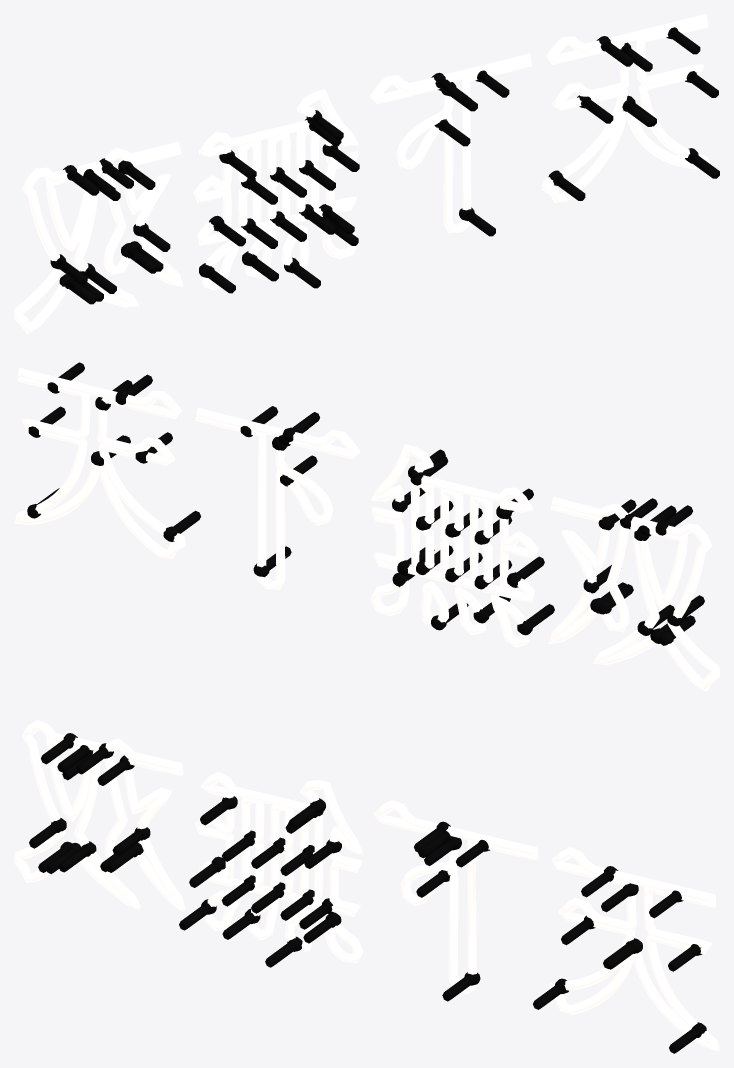
File: neon_tenkamusou.fbx
3 views of the same model, one above another, from view 1: azimuth 30°, elevation 25°; view 2: azimuth 150°, elevation 25°; view 3: azimuth 330°, elevation 25° (orthographic).
Parts seen in each view (by area): view 1: NeonEnglish; view 2: NeonEnglish; view 3: NeonEnglish.
Part boxes in pixels (box(x1,y1,x2,y2)): NeonEnglish: box(14, 14, 719, 333); NeonEnglish: box(14, 362, 719, 691); NeonEnglish: box(14, 720, 719, 1053).
Size of the model in its own units: 299 by 72.4 by 21.29.
